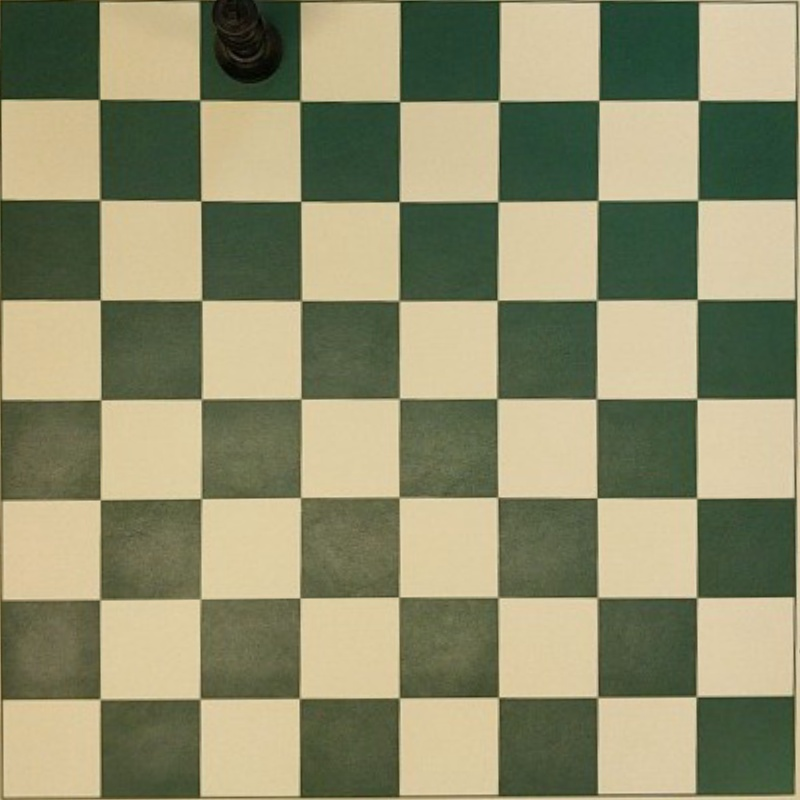black-king: (211, 0, 281, 80)
